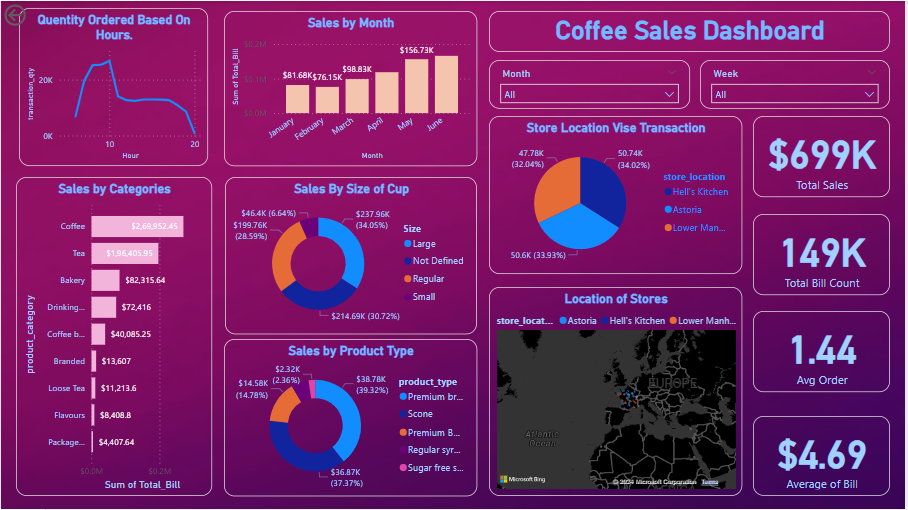

This screenshot's page, from the dashboard's own definition file:
{"tool":"powerbi","page":{"name":"Page 1","canvas":[1280,720],"ordinal":0},"visuals":[{"type":"lineChart","title":"Quentity Ordered Based On Hours.","fields":{"Y":["Sum(Transactions.transaction_qty)"],"Category":["Transactions.Hour"]},"box":[25.5,9.9,267.9,223.9],"z":0},{"type":"clusteredColumnChart","title":"Sales by Month","fields":{"Y":["Sum(Transactions.Total_Bill)"],"Category":["Transactions.transaction_date.Variation.Date Hierarchy.Month"]},"box":[316.1,14.2,358.6,219.7],"z":1000},{"type":"barChart","title":"Sales by Categories","fields":{"Category":["Transactions.product_category"],"Y":["Sum(Transactions.Total_Bill)"]},"box":[21.3,249.4,277.8,452.1],"z":2000},{"type":"donutChart","title":"Sales by Product Type","fields":{"Category":["Transactions.product_type"],"Y":["Sum(Transactions.Total_Bill)"]},"box":[316.1,479.1,358.6,222.5],"z":3000},{"type":"pieChart","title":"Store Location Vise Transaction","fields":{"Category":["Transactions.store_location"],"Y":["CountNonNull(Transactions.transaction_id)"]},"box":[691.7,163,358.6,223.9],"z":4000},{"type":"filledMap","title":"Location of Stores","fields":{"Category":["Transactions.Total_Bill"],"Series":["Transactions.store_location"]},"box":[691.7,405.4,358.6,296.2],"z":5000},{"type":"donutChart","title":"Sales By Size of Cup","fields":{"Category":["Transactions.Size"],"Y":["Sum(Transactions.Total_Bill)"]},"box":[317.5,249.4,357.2,222.5],"z":6000},{"type":"card","fields":{"Values":["CountNonNull(Transactions.Total_Bill)"]},"box":[1065.8,301.9,194.2,114.8],"z":7000},{"type":"slicer","fields":{"Values":["Transactions.Month Name"]},"box":[691.7,83.6,284.9,69.4],"z":8000},{"type":"actionButton","box":[0,0,100,40],"z":9000},{"type":"slicer","fields":{"Values":["Transactions.Day Name"]},"box":[990.7,83.6,269.3,69.4],"z":10000},{"type":"card","fields":{"Values":["Sum(Transactions.Total_Bill)"]},"box":[1065.8,163,194.2,114.8],"z":11000},{"type":"card","fields":{"Values":["Avg(Transactions.avg_bill)"]},"box":[1065.8,588.2,194.2,113.4],"z":12000},{"type":"card","fields":{"Values":["Avg(Transactions.Avg_Order)"]},"box":[1065.8,439.4,194.2,114.8],"z":13000},{"type":"textbox","title":"Coffee Sales Dashboard","box":[691.7,14.2,568.3,58.1],"z":14000}]}

Visuals, with their boxes in screenshot pixels (x1, y1, x2, y2), scaled from the page's 1280x720 canvas onto the 908x510 screenshot:
"Quentity Ordered Based On Hours." lineChart: <region>18, 7, 208, 166</region>
"Sales by Month" clusteredColumnChart: <region>224, 10, 479, 166</region>
"Sales by Categories" barChart: <region>15, 177, 212, 497</region>
"Sales by Product Type" donutChart: <region>224, 339, 479, 497</region>
"Store Location Vise Transaction" pieChart: <region>491, 115, 745, 274</region>
"Location of Stores" filledMap: <region>491, 287, 745, 497</region>
"Sales By Size of Cup" donutChart: <region>225, 177, 479, 334</region>
card - CountNonNull(Transactions.Total_Bill): <region>756, 214, 894, 295</region>
slicer - Transactions.Month Name: <region>491, 59, 693, 108</region>
actionButton: <region>0, 0, 71, 28</region>
slicer - Transactions.Day Name: <region>703, 59, 894, 108</region>
card - Sum(Transactions.Total_Bill): <region>756, 115, 894, 197</region>
card - Avg(Transactions.avg_bill): <region>756, 417, 894, 497</region>
card - Avg(Transactions.Avg_Order): <region>756, 311, 894, 393</region>
"Coffee Sales Dashboard" textbox: <region>491, 10, 894, 51</region>
